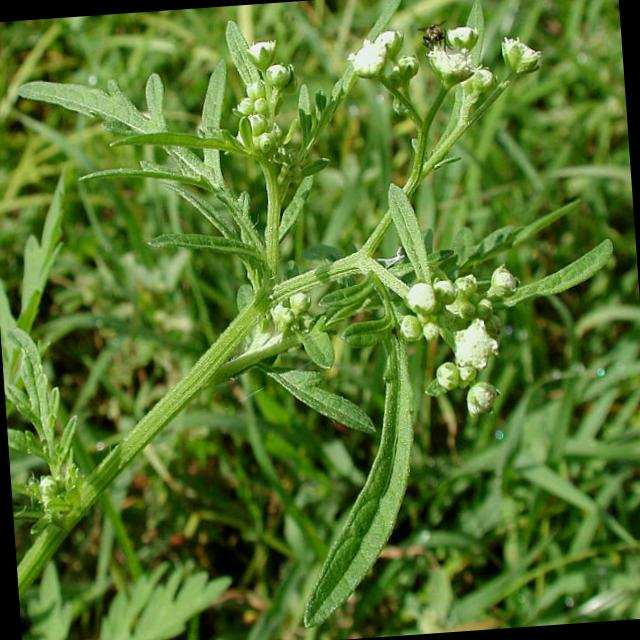Poisonous-Parthenium: (200, 12, 441, 459), (0, 284, 287, 640), (407, 38, 570, 446)
